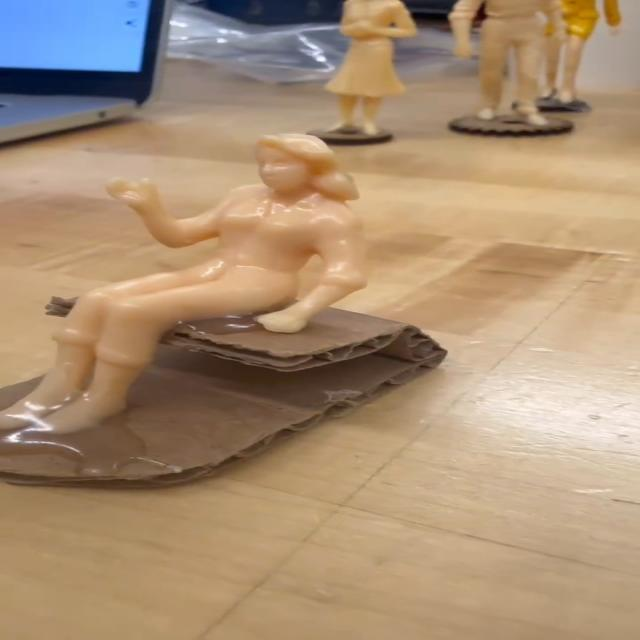Unauthorized: (0, 121, 446, 432)
